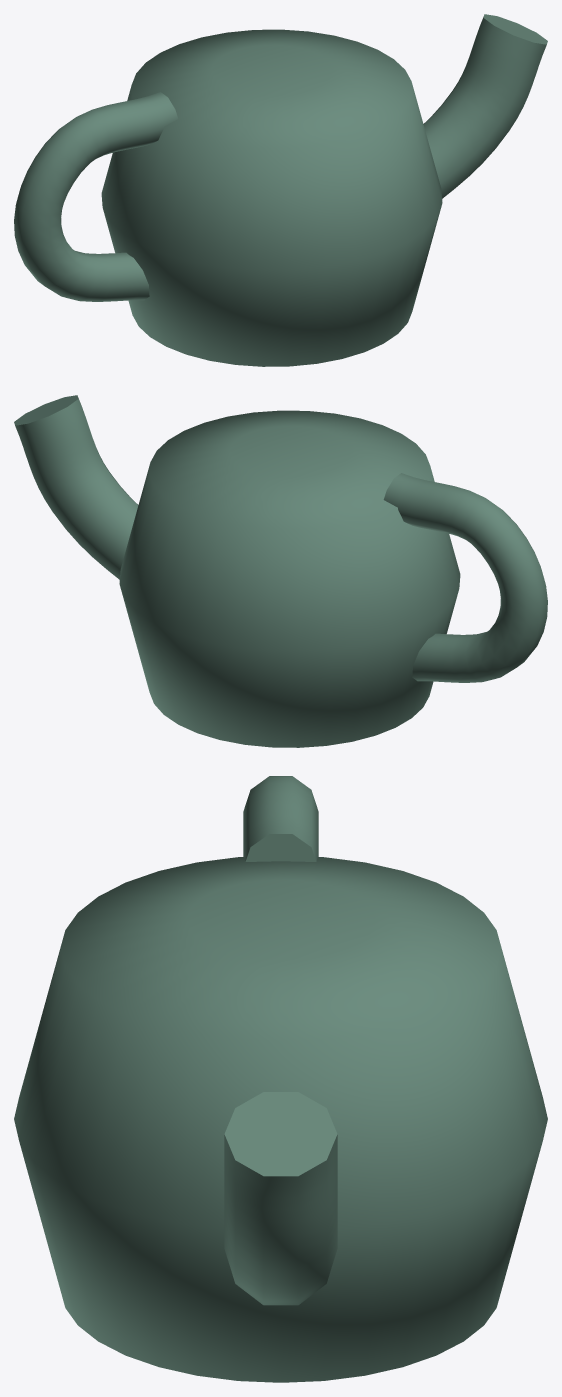
File: sku_v23_tea_pot.glb
3 views of the same model, one above another, from view 1: azimuth 30°, elevation 25°; view 2: azimuth 150°, elevation 25°; view 3: azimuth 270°, elevation 25° (orthographic). The views are drawn at different scales.
Parts seen in each view (by area): view 1: sku_v23_tea_pot_Glazed_ceramic_1; view 2: sku_v23_tea_pot_Glazed_ceramic_1; view 3: sku_v23_tea_pot_Glazed_ceramic_1.
Part boxes in pixels (x1=…): sku_v23_tea_pot_Glazed_ceramic_1: x1=14, y1=14, x2=547, y2=366; sku_v23_tea_pot_Glazed_ceramic_1: x1=14, y1=395, x2=547, y2=747; sku_v23_tea_pot_Glazed_ceramic_1: x1=14, y1=776, x2=547, y2=1382.
Bounding box in the file's own units: 0.3014 × 0.1313 × 0.17.
